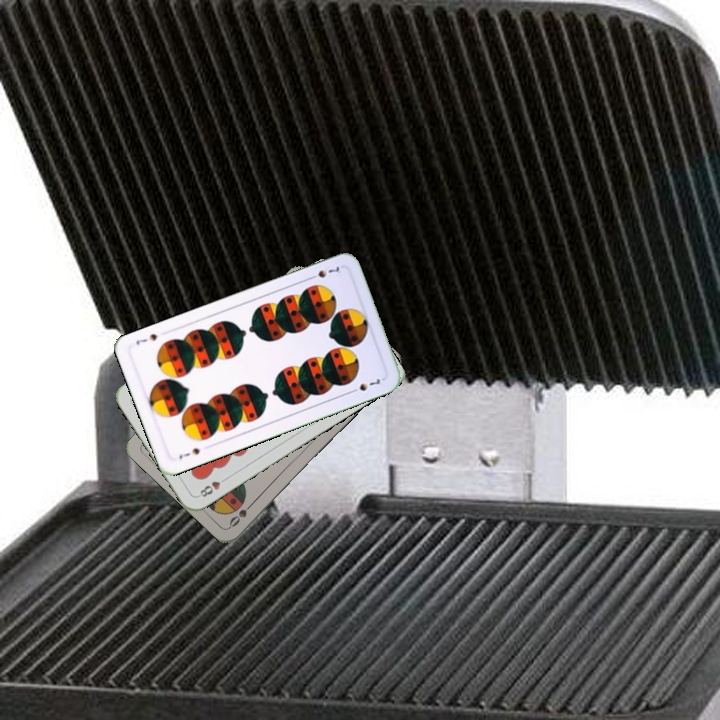H8: (194, 473, 230, 500)
S7: (304, 262, 343, 282), (175, 444, 203, 462)
SO: (225, 497, 257, 530)
